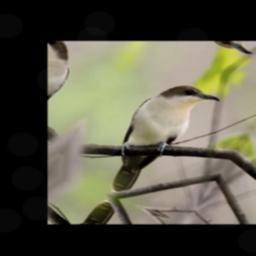Cuckoo: (86, 74, 223, 206)
